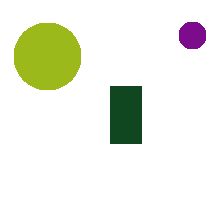circle: (14, 23, 80, 89), (179, 22, 205, 48)
rectangle: (110, 86, 141, 143)
